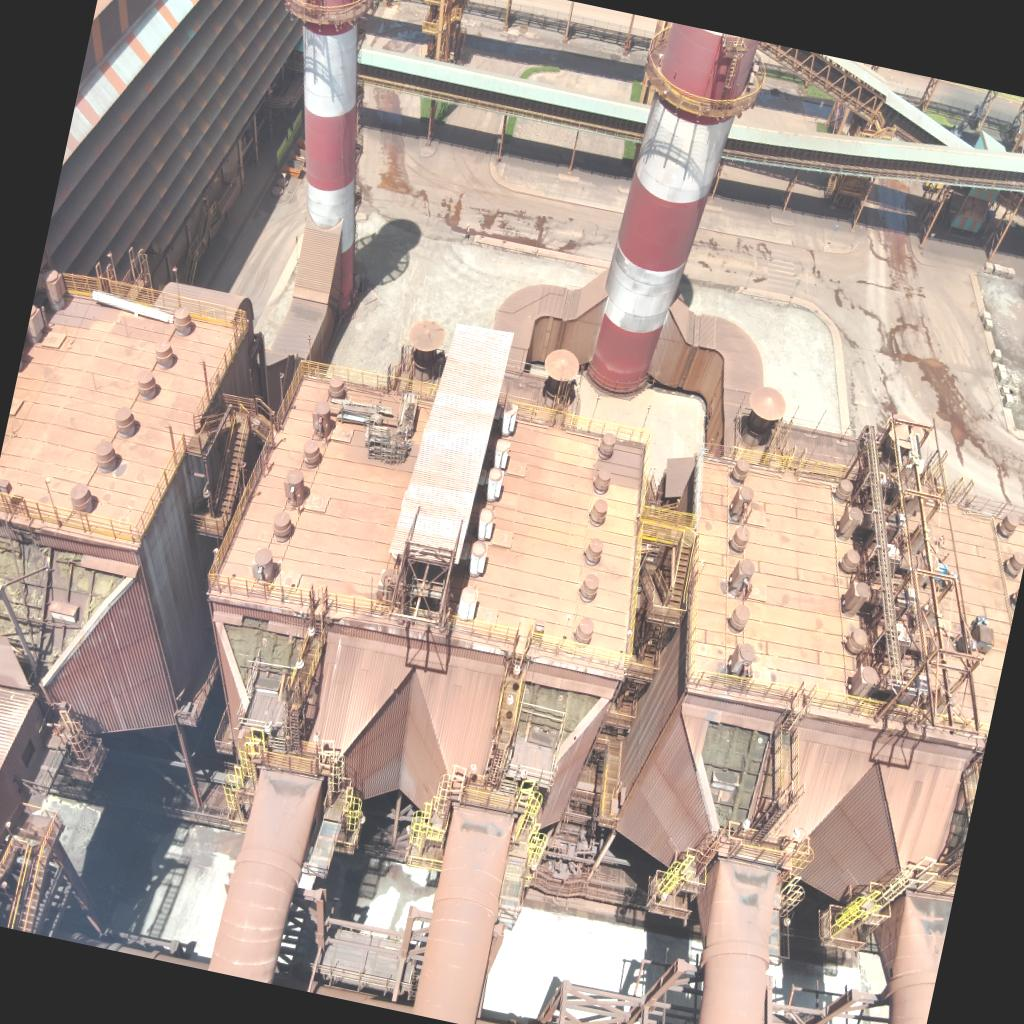Failures: (0, 535, 131, 708), (680, 715, 776, 851), (206, 617, 308, 724), (504, 670, 609, 771)
